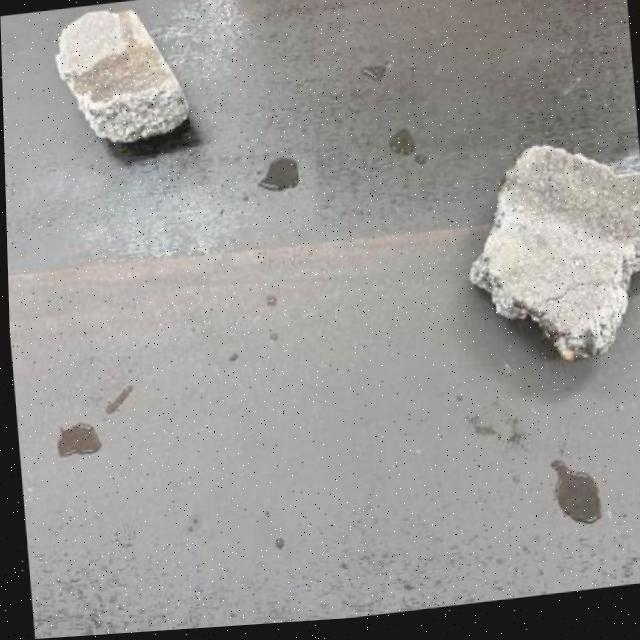Road Debris: (503, 142, 640, 264), (56, 38, 169, 112), (114, 6, 139, 50)
